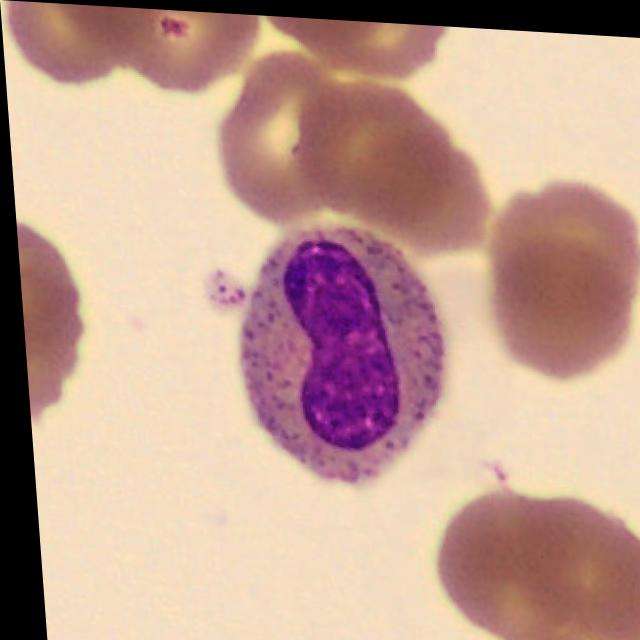Metamielocito: (233, 218, 443, 481)
